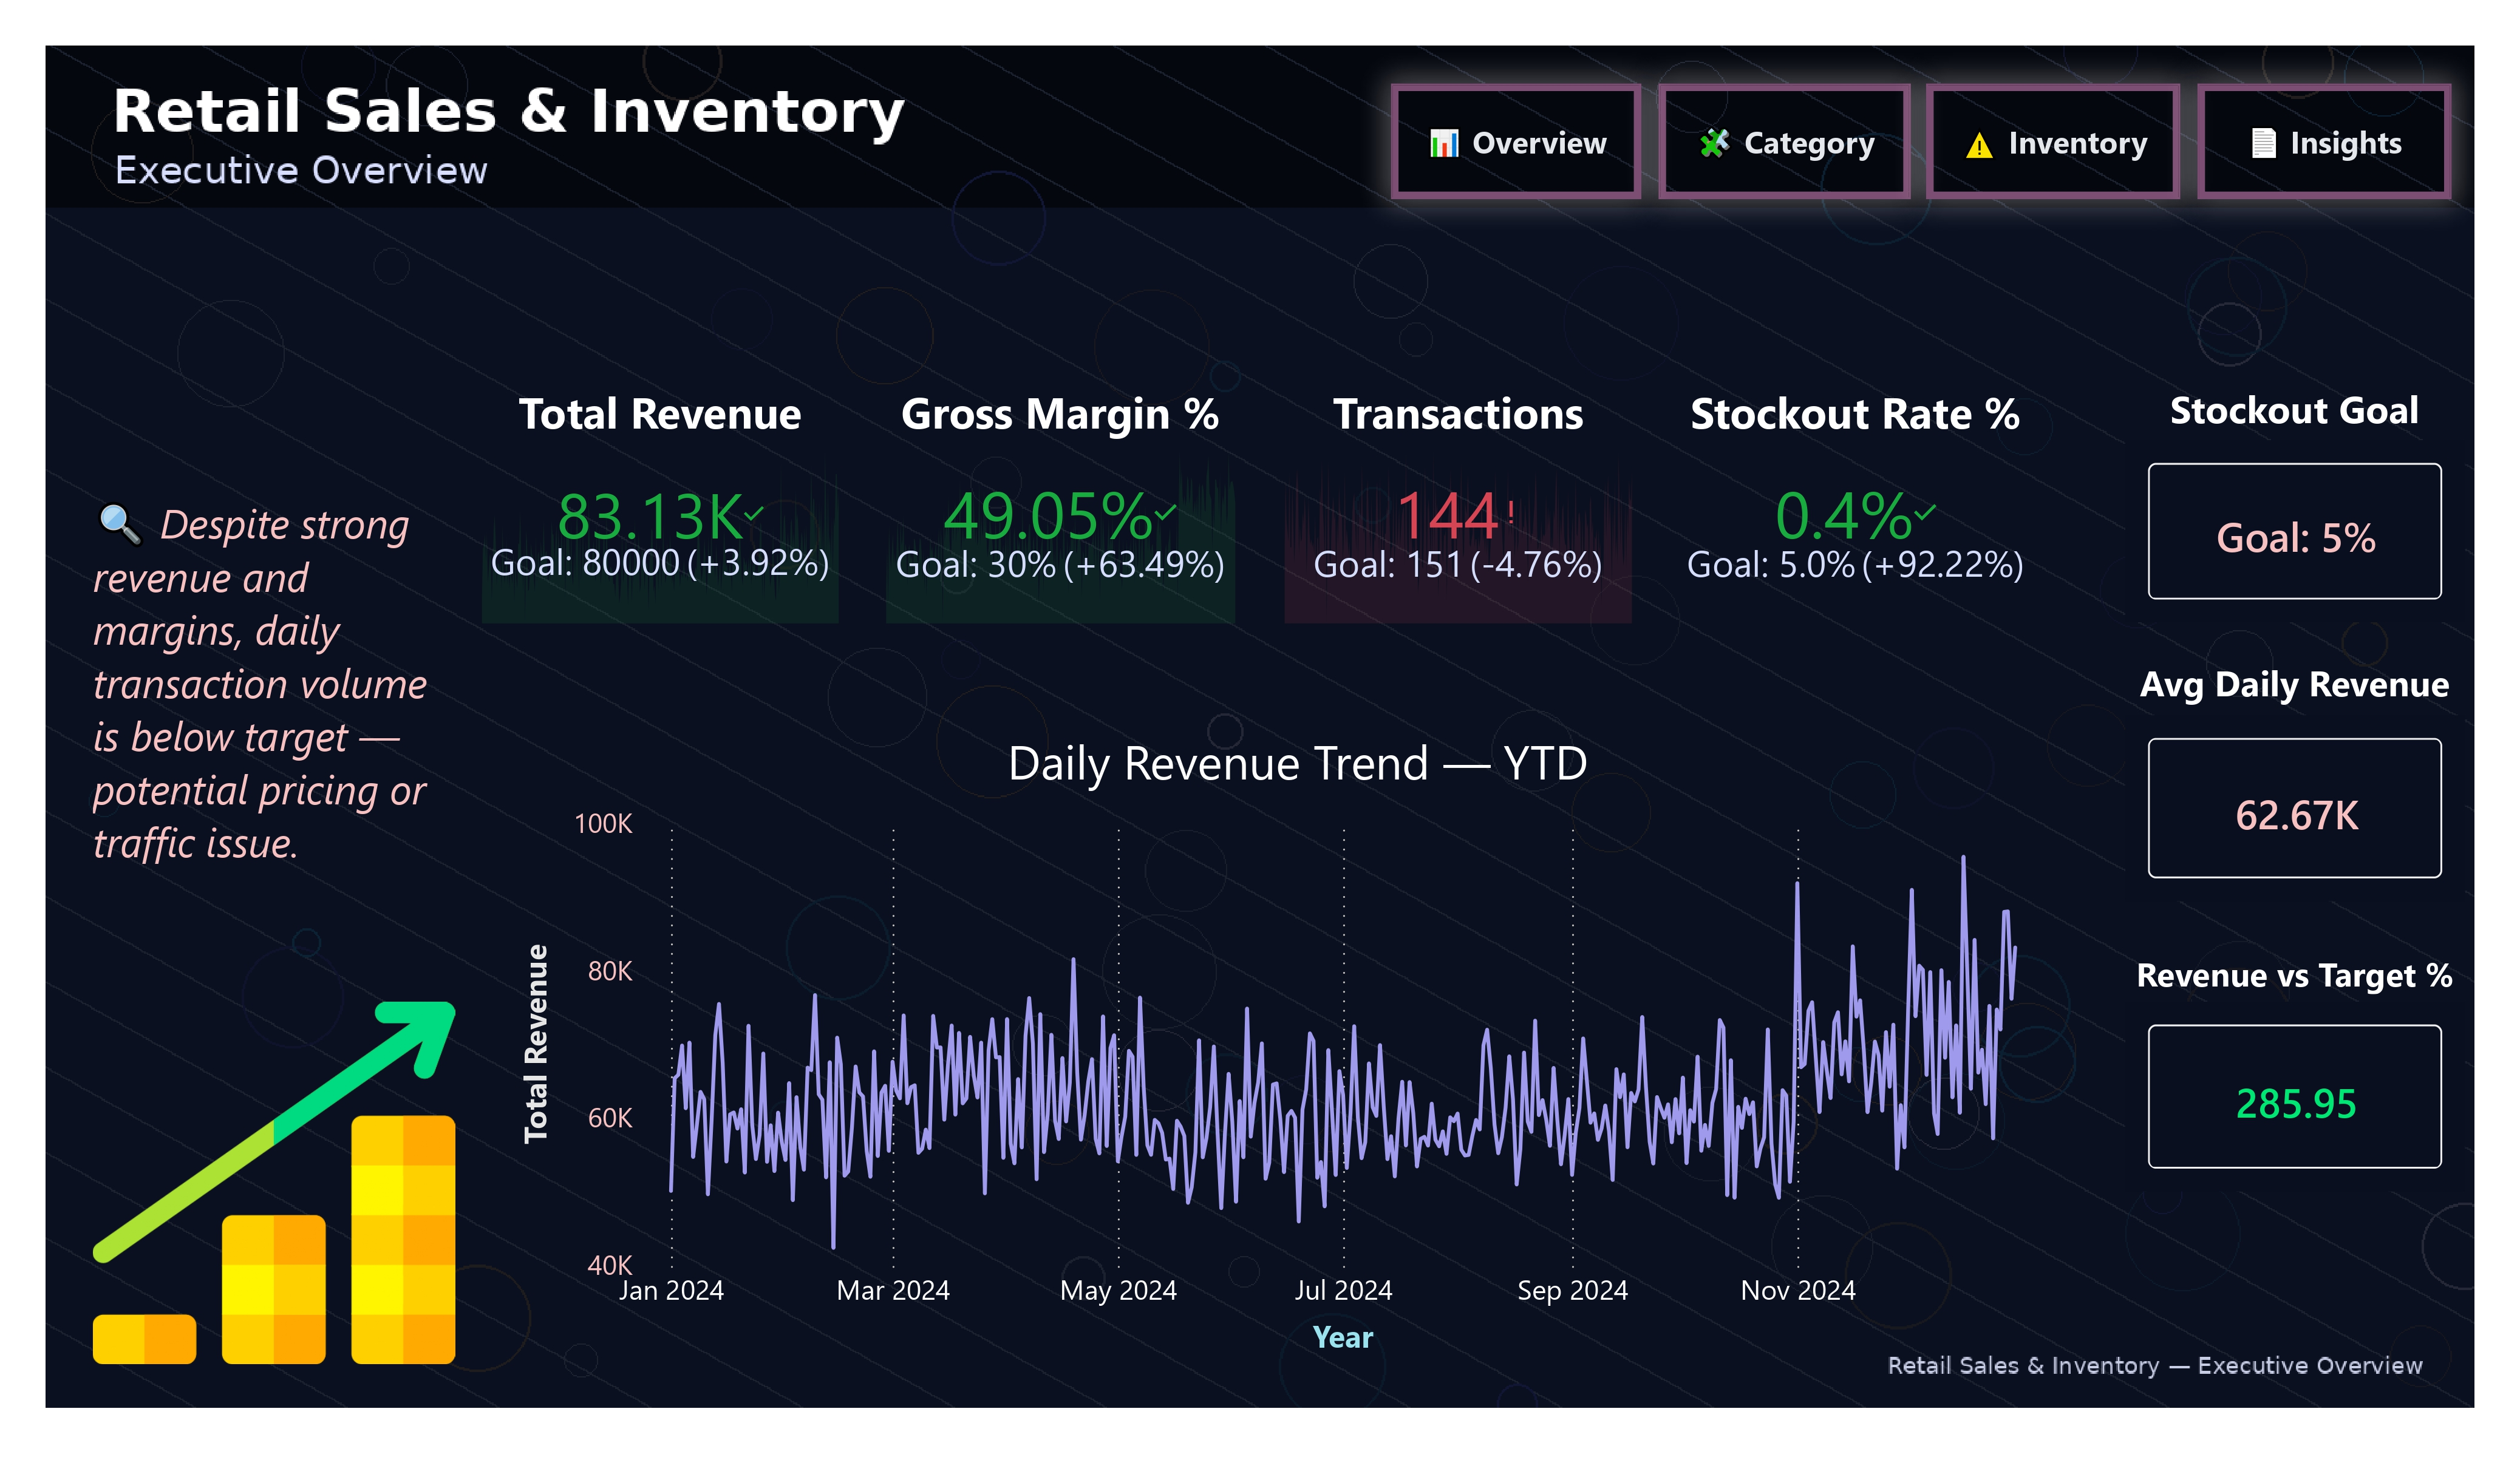

The dashboard page shown, as its layout file describes it:
{"tool":"powerbi","page":{"name":"Executive Overview","canvas":[1280,720],"ordinal":0},"visuals":[{"type":"kpi","title":"Total Revenue ","fields":{"Indicator":["Table.Total Revenue"],"TrendLine":["dim_dates.Date"],"Goal":["Table.Revenue Target"]},"box":[225,177.5,197.5,132.5],"z":1000},{"type":"kpi","title":"Gross Margin % ","fields":{"Indicator":["Table.Gross Margin %"],"TrendLine":["dim_dates.Date"],"Goal":["Table.Gross Margin Target"]},"box":[438.1,177.5,193.8,132.5],"z":2000},{"type":"kpi","title":"Transactions","fields":{"Indicator":["Table.Transactions"],"Goal":["Table.Transactions Target"],"TrendLine":["dim_dates.Date"]},"box":[647.5,177.5,193.8,132.5],"z":3000},{"type":"lineChart","title":"Daily Revenue Trend — YTD","fields":{"Category":["dim_dates.Date.Variation.Date Hierarchy.Year","dim_dates.Date.Variation.Date Hierarchy.Quarter","dim_dates.Date.Variation.Date Hierarchy.Month","dim_dates.Date.Variation.Date Hierarchy.Day"],"Y":["Table.Total Revenue"]},"box":[246.2,360,827.5,335],"z":4000},{"type":"textbox","box":[20.2,232.1,200,271.4],"z":5000},{"type":"kpi","title":" Stockout Rate %","fields":{"TrendLine":["dim_dates.Date"],"Goal":["Table.Stockout Target"],"Indicator":["Table.Stockout Rate % (Executive)"]},"box":[856.9,177.5,193.8,132.5],"z":6000},{"type":"actionButton","title":"Overview","box":[850,20,132.5,61.2],"z":7000},{"type":"actionButton","title":"Overview","box":[991.2,20,133.8,61.2],"z":8000},{"type":"image","box":[0,503.8,241.2,191.2],"z":9000},{"type":"cardVisual","title":"Stockout Goal ","fields":{"Data":["Table.Stockout Goal Text"]},"box":[1091.4,177.1,189.1,132.8],"z":10000},{"type":"cardVisual","title":"Avg Daily Revenue","fields":{"Data":["Table.Avg Daily Revenue"]},"box":[1091.4,323.1,189.1,132.8],"z":11000},{"type":"cardVisual","title":"Revenue vs Target %","fields":{"Data":["Table.Revenue vs Target %"]},"box":[1091.4,477.5,189.1,132.8],"z":12000},{"type":"actionButton","title":"Overview","box":[1133.8,20,133.8,61.2],"z":13000},{"type":"actionButton","title":"Overview","box":[708.8,20,132.5,61.2],"z":13500}]}

Visuals, with their boxes on the page's 1280x720 design canvas (x1, y1, x2, y2). These are canvas units, not pixel positions in the 2520x1457 screenshot, which may show the page scaled, cropped or inside an application window:
"Total Revenue " kpi: [x1=225, y1=178, x2=422, y2=310]
"Gross Margin % " kpi: [x1=438, y1=178, x2=632, y2=310]
"Transactions" kpi: [x1=648, y1=178, x2=841, y2=310]
"Daily Revenue Trend — YTD" lineChart: [x1=246, y1=360, x2=1074, y2=695]
textbox: [x1=20, y1=232, x2=220, y2=504]
" Stockout Rate %" kpi: [x1=857, y1=178, x2=1051, y2=310]
"Overview" actionButton: [x1=850, y1=20, x2=982, y2=81]
"Overview" actionButton: [x1=991, y1=20, x2=1125, y2=81]
image: [x1=0, y1=504, x2=241, y2=695]
"Stockout Goal " cardVisual: [x1=1091, y1=177, x2=1280, y2=310]
"Avg Daily Revenue" cardVisual: [x1=1091, y1=323, x2=1280, y2=456]
"Revenue vs Target %" cardVisual: [x1=1091, y1=478, x2=1280, y2=610]
"Overview" actionButton: [x1=1134, y1=20, x2=1268, y2=81]
"Overview" actionButton: [x1=709, y1=20, x2=841, y2=81]
